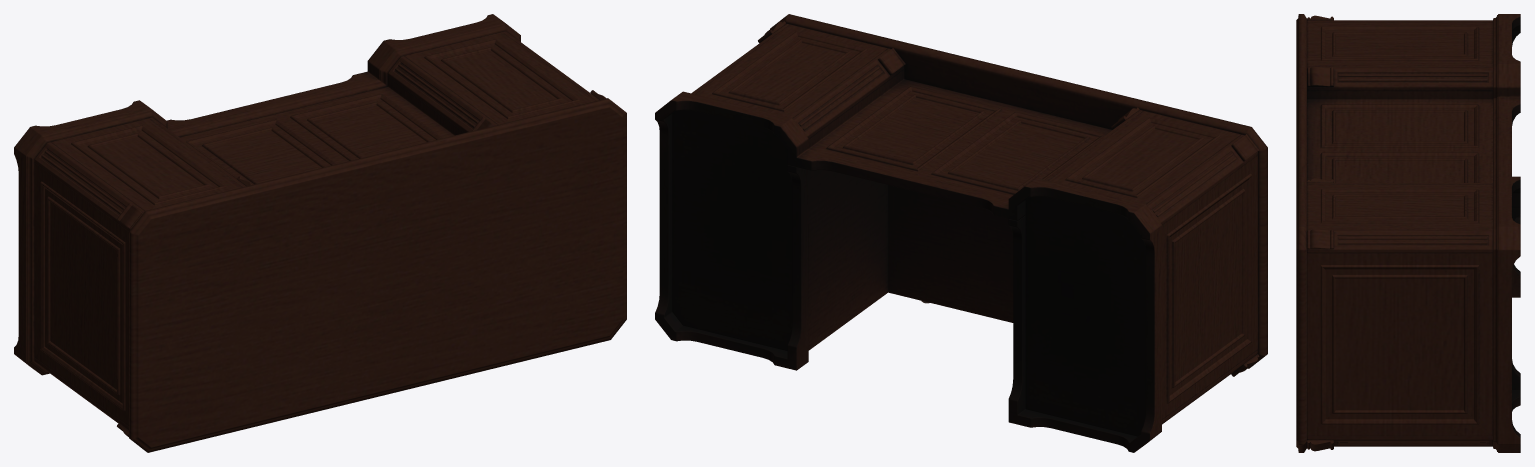
The model's file is birou4.glb.
3 renders of one model, left to right at view 1: azimuth 30°, elevation 25°; view 2: azimuth 150°, elevation 25°; view 3: azimuth 270°, elevation 25°, orthographic. The views are drawn at different scales.
Visible parts, largest first — view 1: Node8; view 2: Node8; view 3: Node8.
Boxes of the visible parts, <box> form: Node8: <box>14,14,626,452</box>; Node8: <box>655,14,1267,452</box>; Node8: <box>1296,14,1520,452</box>.
Bounding box in the file's own units: 185 × 87 × 77.
Materials: 1 (1 with a texture image).
